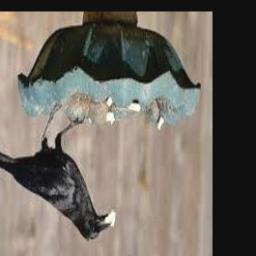Crow: (0, 106, 115, 242)
